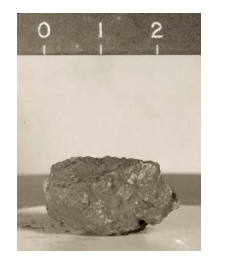Breccia: (20, 144, 186, 239)
